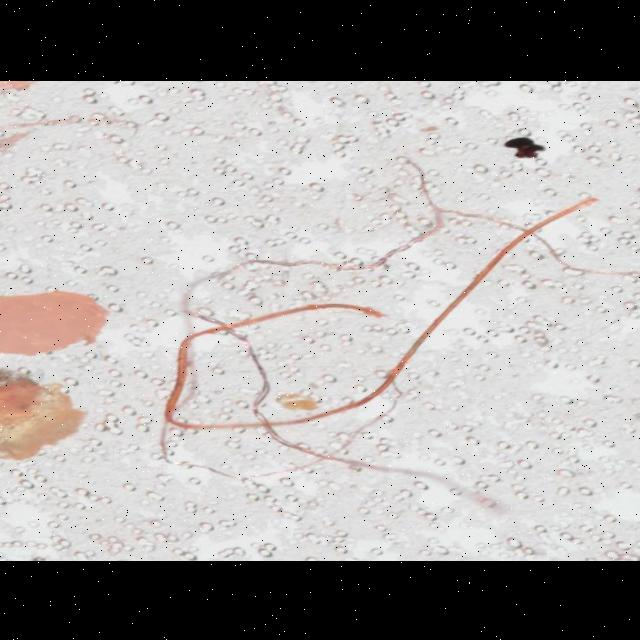Fibre: (148, 153, 600, 512)
